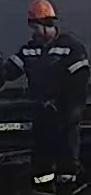helmet: (27, 0, 59, 29)
vest: (15, 32, 91, 120)
